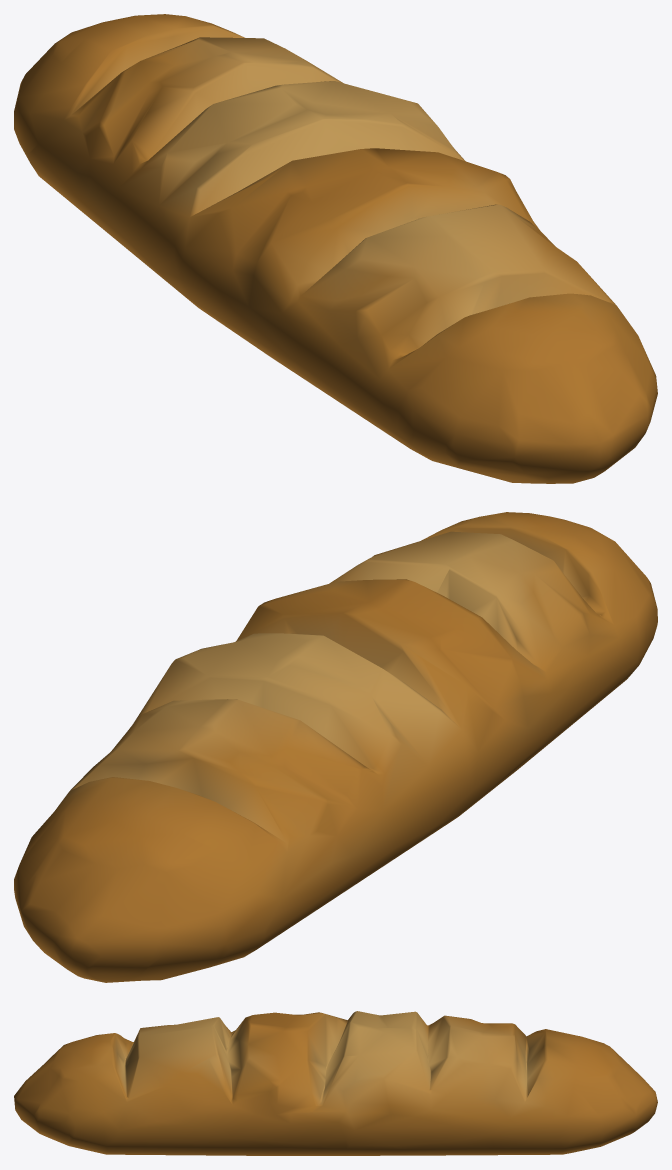
File: gen3d-baguette-lod1.glb
3 renders of one model, top to bottom at view 1: azimuth 30°, elevation 25°; view 2: azimuth 150°, elevation 25°; view 3: azimuth 270°, elevation 25°, orthographic. The views are drawn at different scales.
Visible parts, largest first — view 1: part_0; view 2: part_0; view 3: part_0.
Boxes of the visible parts, left/top/right/bottom form: part_0: left=14, top=14, right=657, bottom=483; part_0: left=14, top=512, right=657, bottom=982; part_0: left=14, top=1011, right=657, bottom=1155.
Size of the model in its own units: 1.53 by 0.9995 by 4.74.
